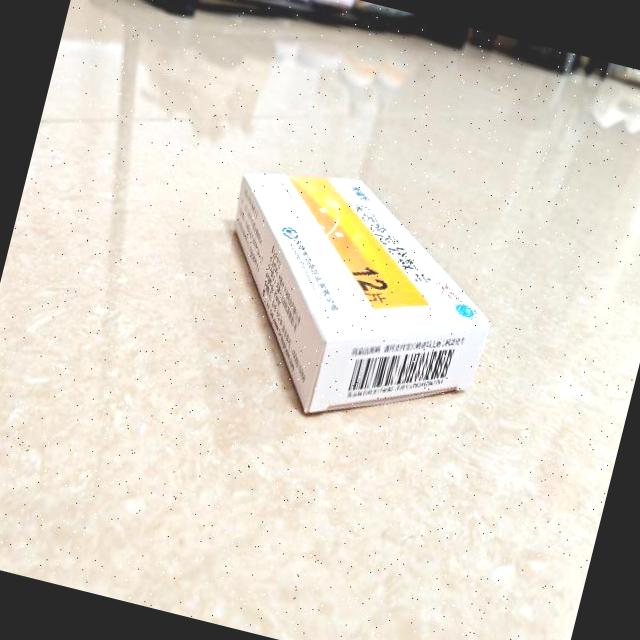box: (191, 152, 516, 450)
